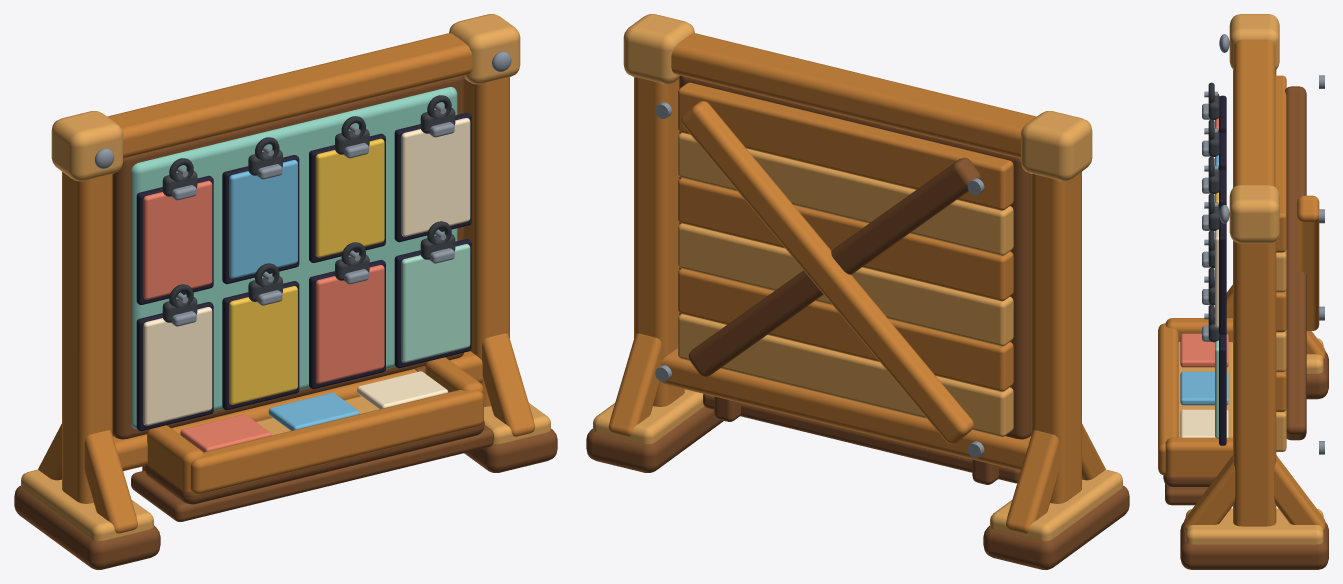
The model's file is exchange-board.glb.
The picture shows the model from 3 angles, left to right: view 1: azimuth 30°, elevation 25°; view 2: azimuth 150°, elevation 25°; view 3: azimuth 270°, elevation 25°; orthographic projection. The views are drawn at different scales.
Parts seen in each view (by area): view 1: wood-frame-and-two-support-posts-surface-2, wood-frame-and-two-support-posts-surface-4, wood-frame-and-two-support-posts-surface-8, lower-tray-and-three-spare-cards-surface-4, wood-frame-and-two-support-posts-surface-16, wood-frame-and-two-support-posts-surface-0, exchange-card-5-surface-1, exchange-card-8-surface-1, exchange-card-7-surface-1, exchange-card-6-surface-1, exchange-card-1-surface-1, exchange-card-3-surface-1 (+27 smaller); view 2: wood-frame-and-two-support-posts-surface-4, wood-frame-and-two-support-posts-surface-8, finished-rear-panel-and-cross-braces-surface-10, finished-rear-panel-and-cross-braces-surface-14, finished-rear-panel-and-cross-braces-surface-4, wood-frame-and-two-support-posts-surface-16, finished-rear-panel-and-cross-braces-surface-0, finished-rear-panel-and-cross-braces-surface-6, finished-rear-panel-and-cross-braces-surface-2, finished-rear-panel-and-cross-braces-surface-8, wood-frame-and-two-support-posts-surface-6, finished-rear-panel-and-cross-braces-surface-12 (+11 smaller); view 3: wood-frame-and-two-support-posts-surface-16, finished-rear-panel-and-cross-braces-surface-12, wood-frame-and-two-support-posts-surface-4, two-braced-floor-feet-surface-8, two-braced-floor-feet-surface-10, wood-frame-and-two-support-posts-surface-18, lower-tray-and-three-spare-cards-surface-4, finished-rear-panel-and-cross-braces-surface-14, lower-tray-and-three-spare-cards-surface-8, finished-rear-panel-and-cross-braces-surface-10, two-braced-floor-feet-surface-12, two-braced-floor-feet-surface-14 (+27 smaller).
Boxes of the visible parts, x1=… form: wood-frame-and-two-support-posts-surface-2: x1=131, y1=87, x2=457, y2=429; wood-frame-and-two-support-posts-surface-4: x1=107, y1=33, x2=472, y2=158; wood-frame-and-two-support-posts-surface-8: x1=62, y1=172, x2=112, y2=503; lower-tray-and-three-spare-cards-surface-4: x1=190, y1=389, x2=483, y2=494; wood-frame-and-two-support-posts-surface-16: x1=464, y1=77, x2=509, y2=406; wood-frame-and-two-support-posts-surface-0: x1=112, y1=75, x2=464, y2=439; exchange-card-5-surface-1: x1=143, y1=307, x2=212, y2=425; exchange-card-8-surface-1: x1=401, y1=244, x2=470, y2=362; exchange-card-7-surface-1: x1=315, y1=265, x2=384, y2=383; exchange-card-6-surface-1: x1=229, y1=286, x2=297, y2=404; exchange-card-1-surface-1: x1=143, y1=180, x2=212, y2=299; exchange-card-3-surface-1: x1=315, y1=138, x2=384, y2=257; wood-frame-and-two-support-posts-surface-4: x1=671, y1=33, x2=1036, y2=158; wood-frame-and-two-support-posts-surface-8: x1=1031, y1=172, x2=1081, y2=503; finished-rear-panel-and-cross-braces-surface-10: x1=678, y1=82, x2=1013, y2=210; finished-rear-panel-and-cross-braces-surface-14: x1=681, y1=101, x2=973, y2=444; finished-rear-panel-and-cross-braces-surface-4: x1=678, y1=223, x2=1013, y2=346; wood-frame-and-two-support-posts-surface-16: x1=634, y1=77, x2=684, y2=406; finished-rear-panel-and-cross-braces-surface-0: x1=678, y1=314, x2=1013, y2=436; finished-rear-panel-and-cross-braces-surface-6: x1=678, y1=178, x2=1013, y2=301; finished-rear-panel-and-cross-braces-surface-2: x1=678, y1=268, x2=1013, y2=391; finished-rear-panel-and-cross-braces-surface-8: x1=678, y1=132, x2=1013, y2=255; wood-frame-and-two-support-posts-surface-6: x1=661, y1=348, x2=1030, y2=471; finished-rear-panel-and-cross-braces-surface-12: x1=688, y1=157, x2=981, y2=376; wood-frame-and-two-support-posts-surface-16: x1=1233, y1=241, x2=1276, y2=526; finished-rear-panel-and-cross-braces-surface-12: x1=1285, y1=86, x2=1306, y2=440; wood-frame-and-two-support-posts-surface-4: x1=1234, y1=39, x2=1275, y2=186; two-braced-floor-feet-surface-8: x1=1180, y1=522, x2=1328, y2=569; two-braced-floor-feet-surface-10: x1=1185, y1=508, x2=1323, y2=544; wood-frame-and-two-support-posts-surface-18: x1=1229, y1=184, x2=1279, y2=243; lower-tray-and-three-spare-cards-surface-4: x1=1158, y1=323, x2=1178, y2=475; finished-rear-panel-and-cross-braces-surface-14: x1=1297, y1=195, x2=1319, y2=330; lower-tray-and-three-spare-cards-surface-8: x1=1165, y1=437, x2=1232, y2=476; finished-rear-panel-and-cross-braces-surface-10: x1=1275, y1=75, x2=1286, y2=252; two-braced-floor-feet-surface-12: x1=1184, y1=455, x2=1235, y2=531; two-braced-floor-feet-surface-14: x1=1274, y1=455, x2=1325, y2=531.
Bounding box in the file's own units: 1.75 × 1.48 × 0.6277.
